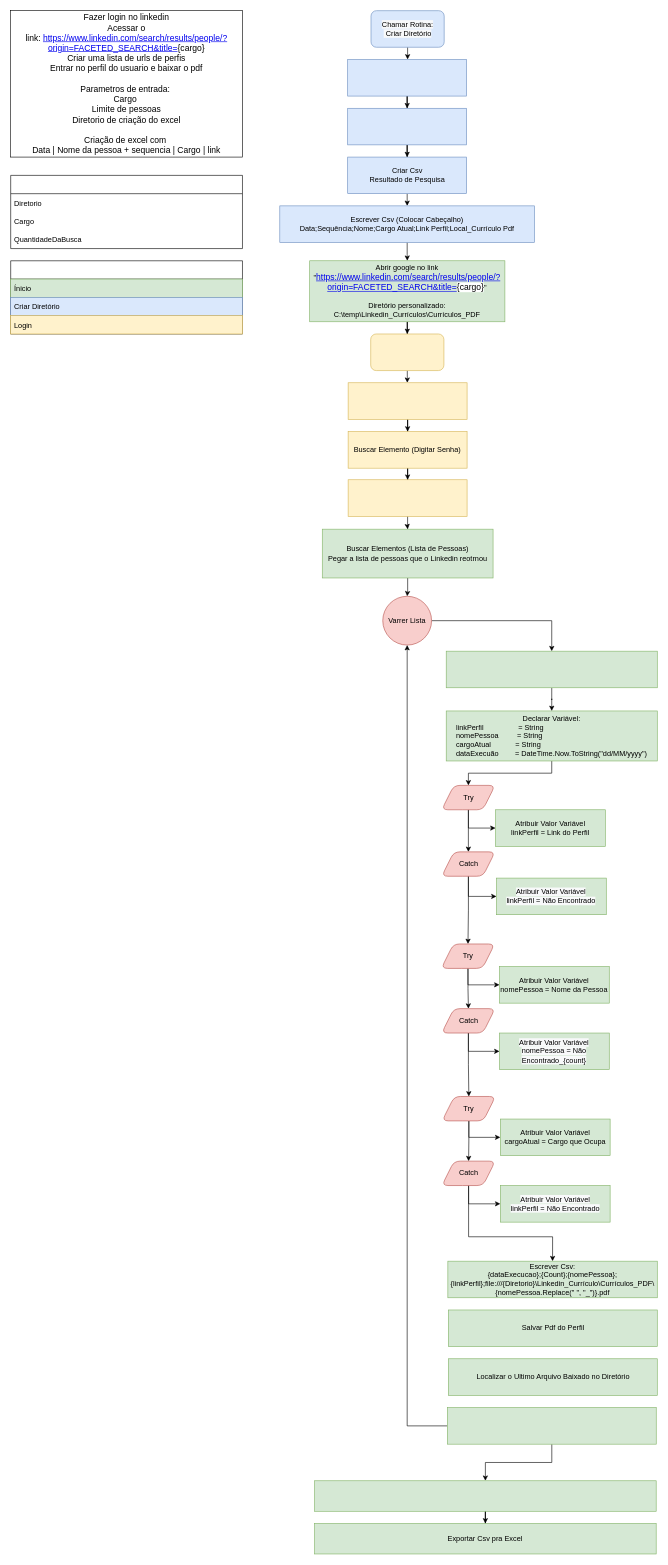
The diagram is 668 pixels wide and 1565 high, and some of its shapes have lost their labels. The box of each missing label's shape, as (x1, y1, x2, y2) in pixels:
Abrir nova Janela com o Perfil Escolhido: (446, 651, 657, 688)
Buscar Elemento (Clicar em Entrar): (348, 479, 467, 516)
Buscar Elemento (Digitar Email): (348, 382, 467, 419)
Chamar Rotina: Login: (370, 333, 444, 371)
Criar Pasta {Diretorio}\Currículos: (347, 108, 467, 145)
Importar Csv: (314, 1480, 656, 1511)
Limpar pasta {Diretorio}\Linkedin_Currículos: (347, 59, 467, 96)
Parametros Iniciais: (10, 175, 242, 249)
Renomear Arquivo {nomePessoa.Replace(" ", "_")}: (447, 1407, 656, 1444)
Rotinas Utilizadas: (10, 260, 242, 334)
